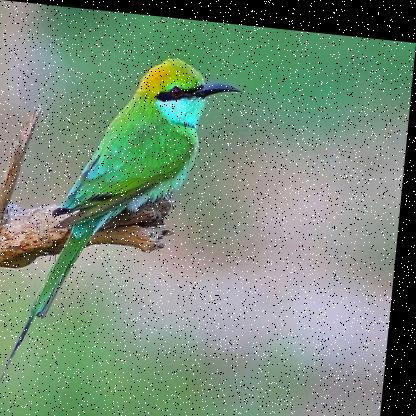Burung: (0, 40, 245, 415)
